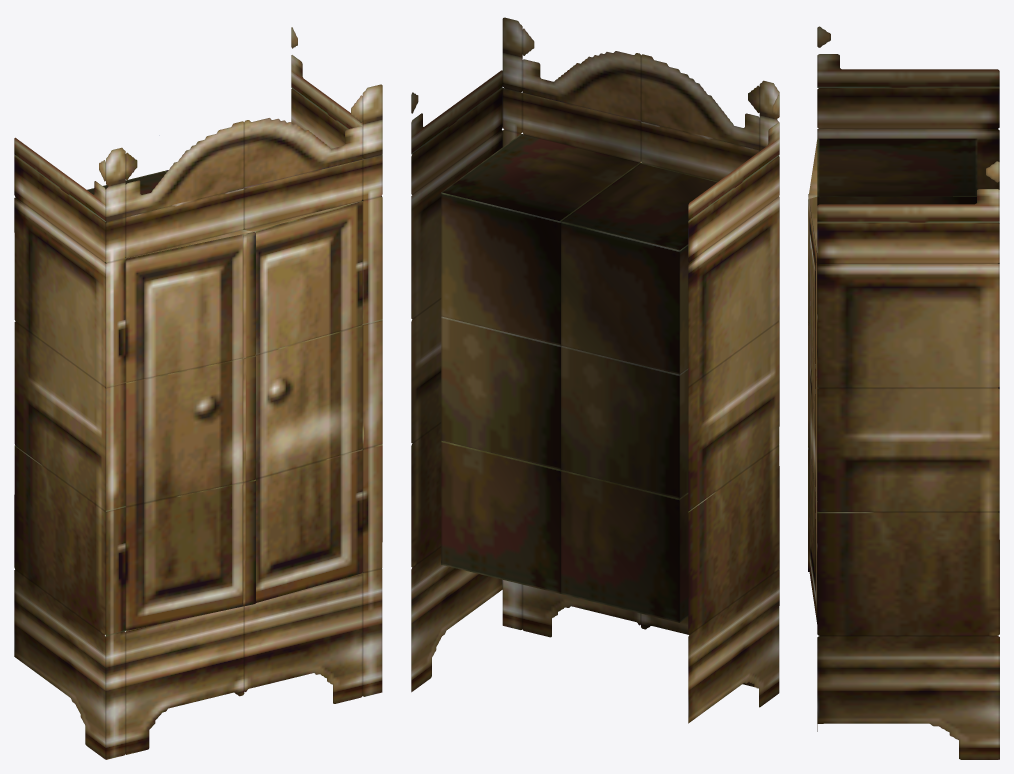
3 views of the same model, side by side, from view 1: azimuth 30°, elevation 25°; view 2: azimuth 150°, elevation 25°; view 3: azimuth 270°, elevation 25° (orthographic).
Parts seen in each view (by area): view 1: T1L2M003_6; view 2: T1L2M003_6; view 3: T1L2M003_6.
Part boxes in pixels (x1=…): T1L2M003_6: x1=14, y1=27, x2=382, y2=759; T1L2M003_6: x1=411, y1=17, x2=779, y2=723; T1L2M003_6: x1=808, y1=26, x2=999, y2=759.
Size of the model in its own units: 2.8 by 5.92 by 1.68.
